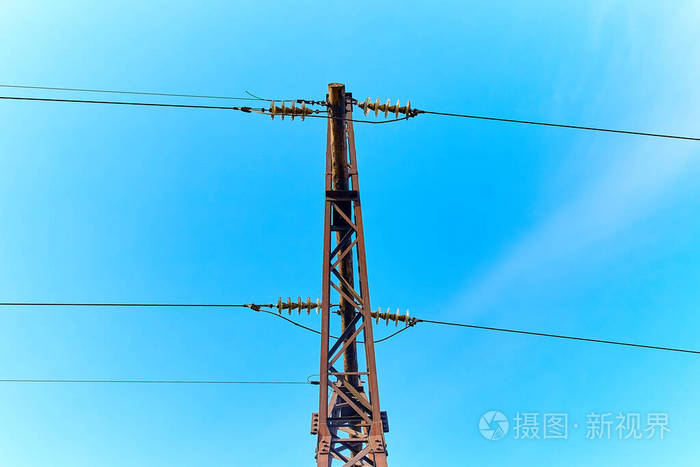insulator: (362, 97, 413, 121), (276, 295, 323, 316), (373, 306, 415, 328), (268, 99, 308, 122)
